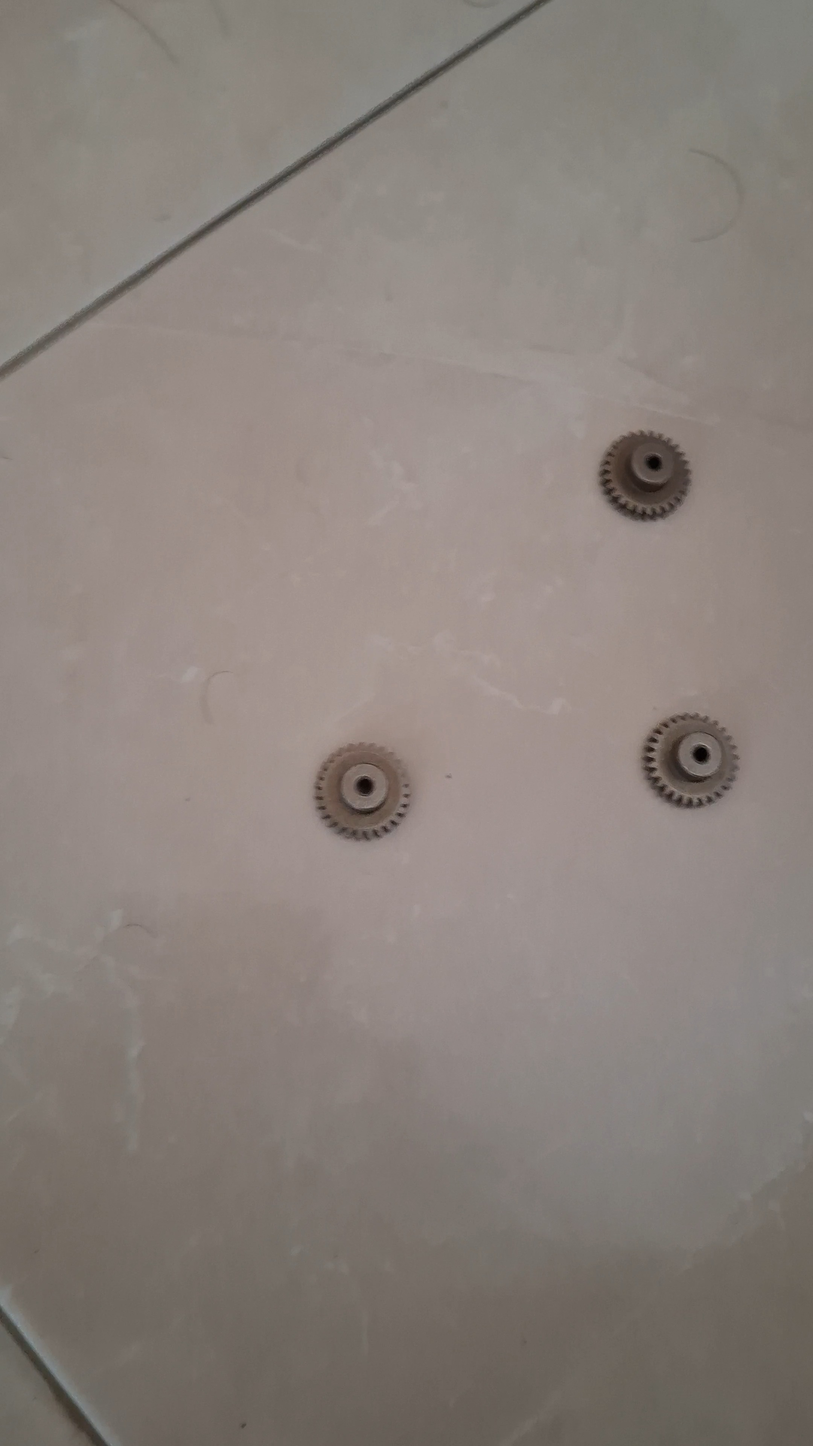spur gear: (315, 744, 410, 839), (643, 714, 738, 807), (599, 432, 690, 519)
